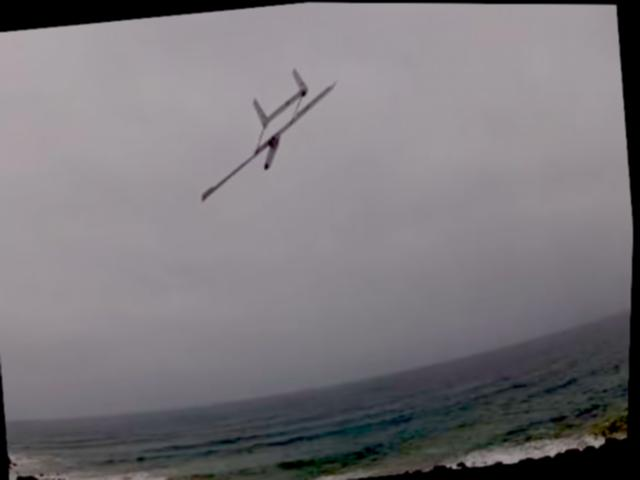uav: (184, 55, 356, 209)
